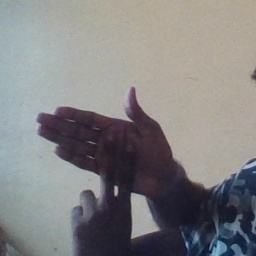N: (32, 81, 162, 232)
